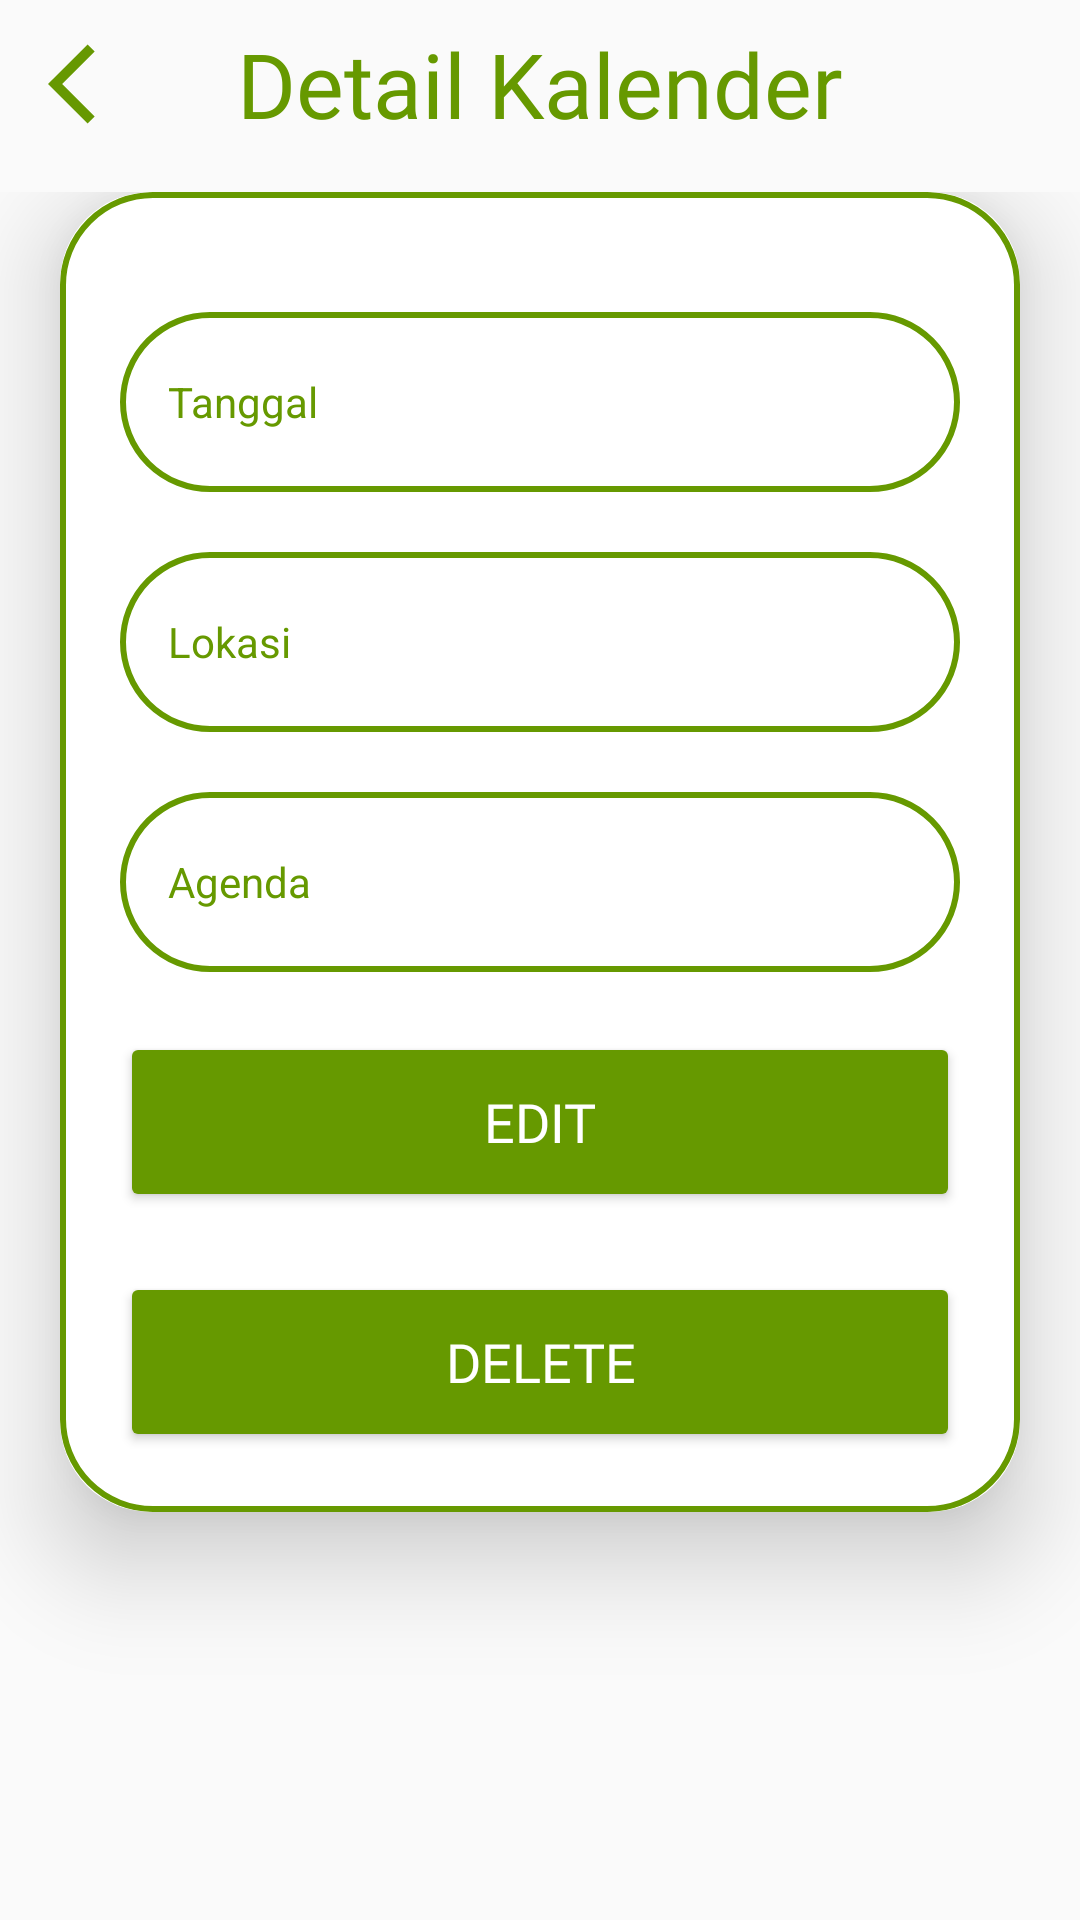

Screen size 1080w x 1920h. Icon name, then its center in pixels as [x,y]:
backicon: [71,84]
